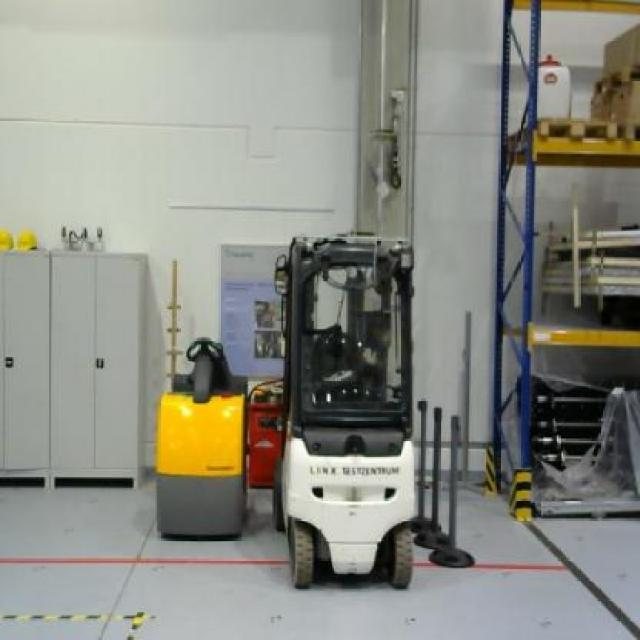box: (588, 78, 640, 122), (602, 22, 640, 78)
